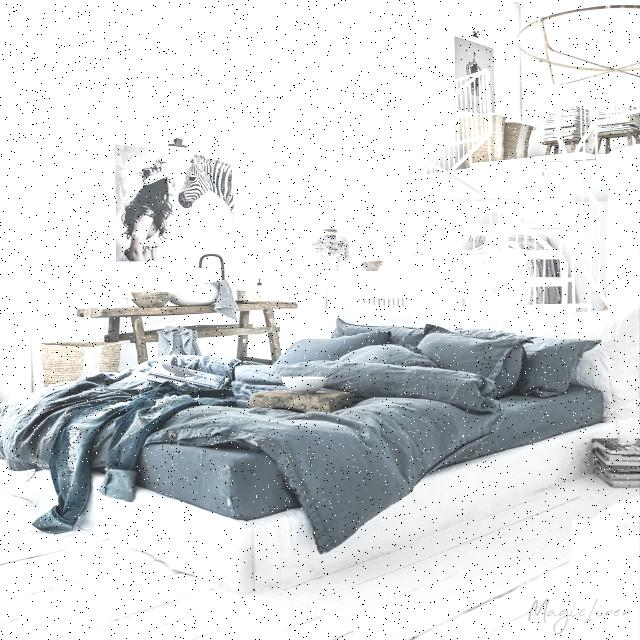bed: (5, 327, 599, 550)
